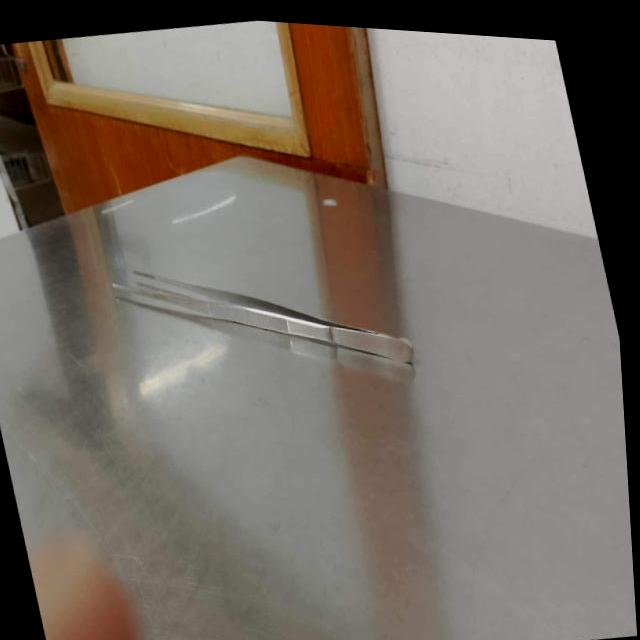Infectious: (0, 154, 432, 639)
Sharps: (110, 269, 414, 383)
